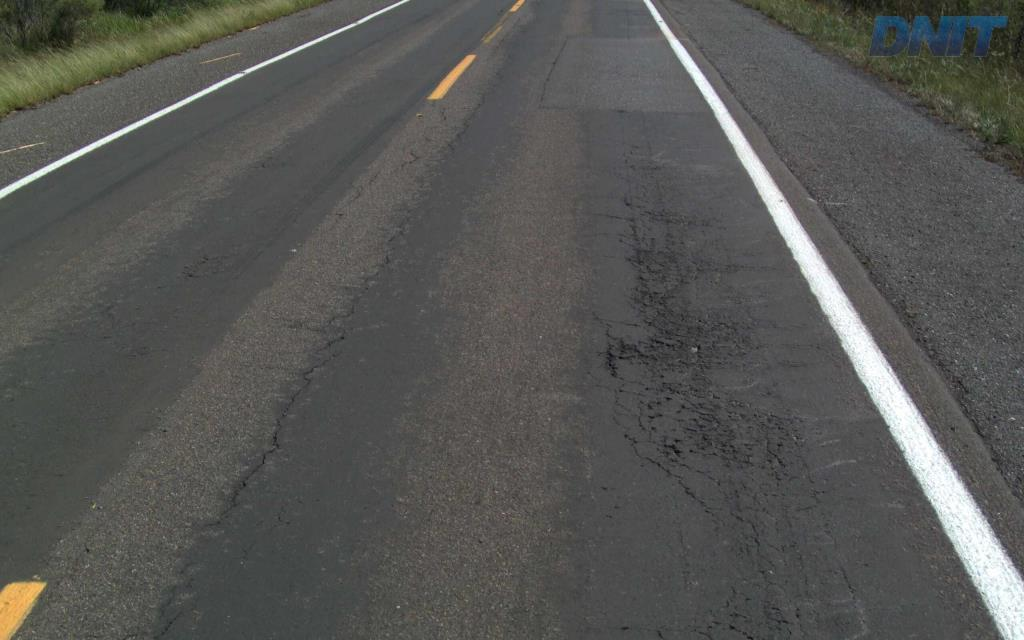crack: (596, 274, 738, 377), (682, 400, 754, 469), (626, 246, 677, 275), (760, 599, 793, 633)
